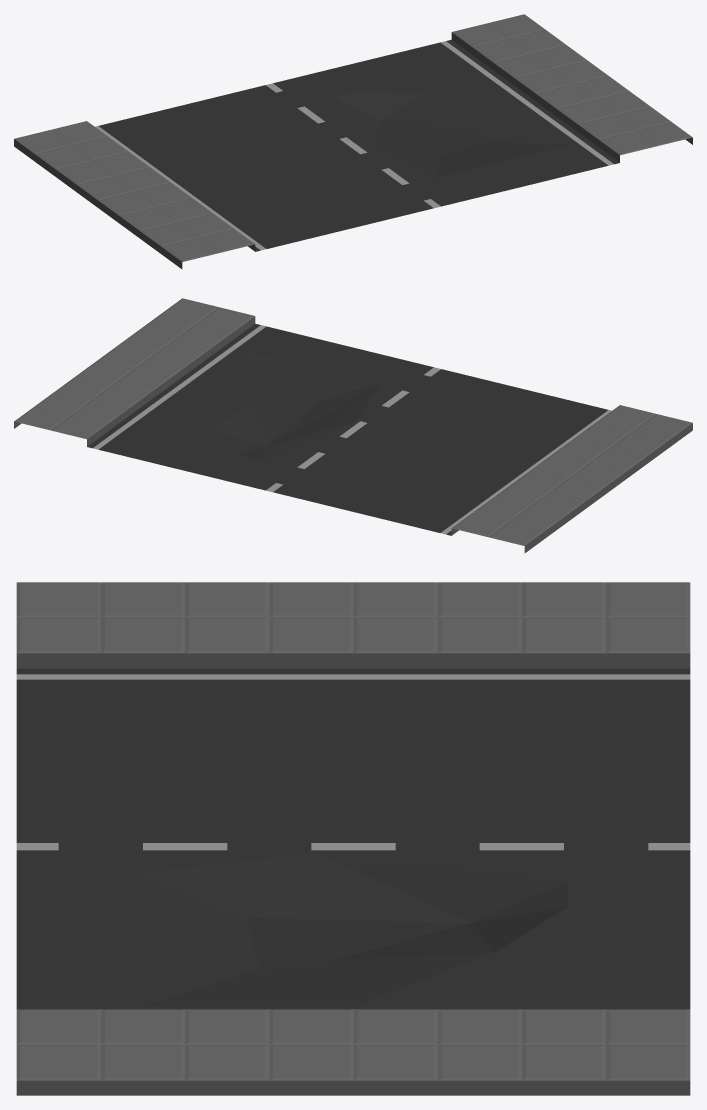
The model's file is Road x8 dent1.fbx.
3 views of the same model, one above another, from view 1: azimuth 30°, elevation 25°; view 2: azimuth 150°, elevation 25°; view 3: azimuth 270°, elevation 25° (orthographic). The views are drawn at different scales.
Visible parts, largest first — view 1: Cube; view 2: Cube; view 3: Cube.
Boxes of the visible parts, x1=… form: Cube: x1=14, y1=14, x2=692, y2=269; Cube: x1=14, y1=298, x2=692, y2=553; Cube: x1=16, y1=582, x2=690, y2=1095.
Size of the model in its own units: 1400 by 47.12 by 800.
